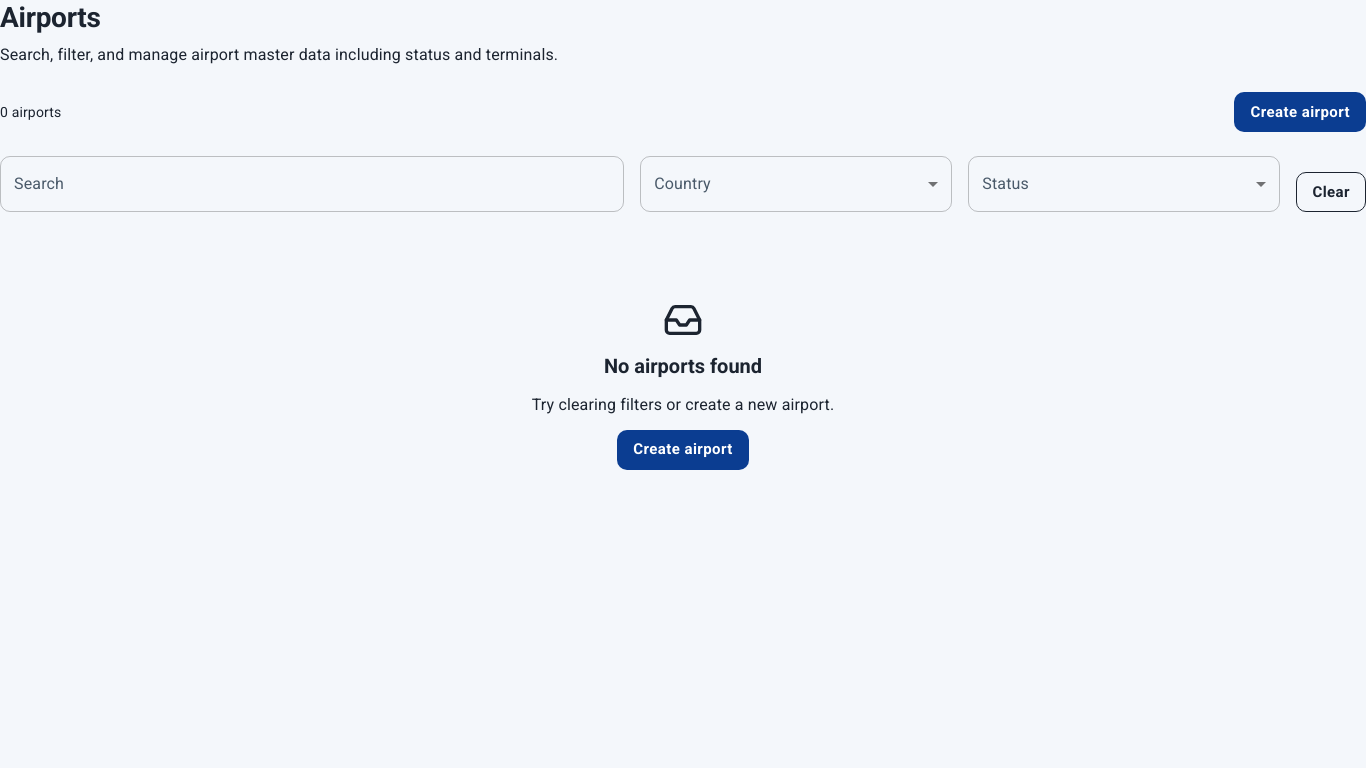
Test: AdminAirportsPage › shows empty state and opens create dialog from it
This screenshot has width=1366, height=768.
expect the heading "No airports found" is shown: met, box x1=604 y1=352 x2=762 y2=380
expect the text "0 airports" is shown: met, box x1=0 y1=101 x2=61 y2=123
Click the button "Create airport" below "No airports found" at [683, 450], box x1=617 y1=430 x2=749 y2=470
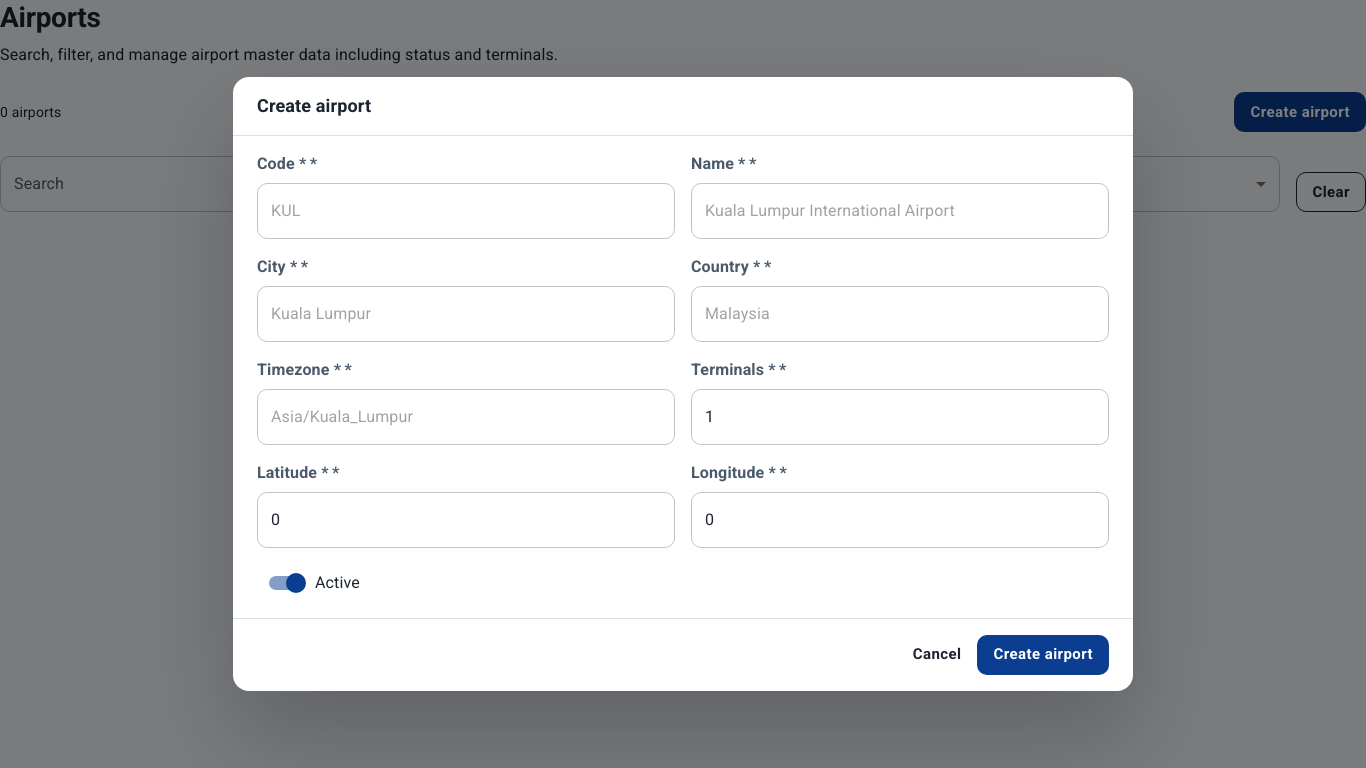
expect the heading "Create airport" is shown: met, box x1=257 y1=95 x2=371 y2=116
